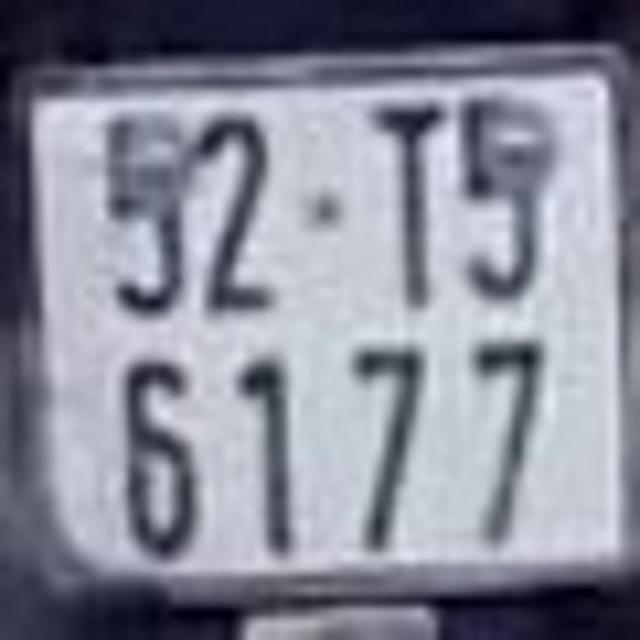1: (232, 358, 308, 556)
2: (198, 118, 277, 308)
5: (455, 100, 545, 290), (100, 124, 186, 316)
6: (124, 368, 210, 564)
7: (348, 346, 424, 553), (474, 335, 536, 552)
T: (374, 105, 446, 313)
